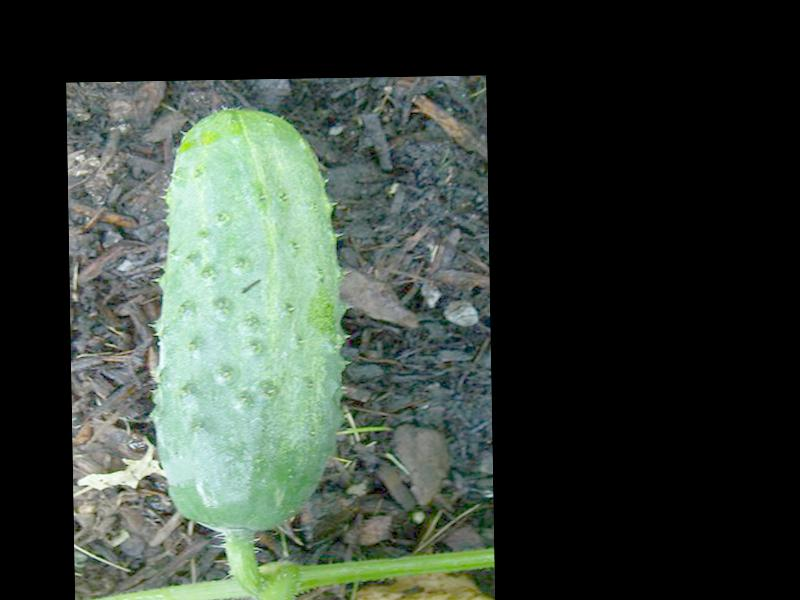Cucumber: (148, 104, 349, 534)
